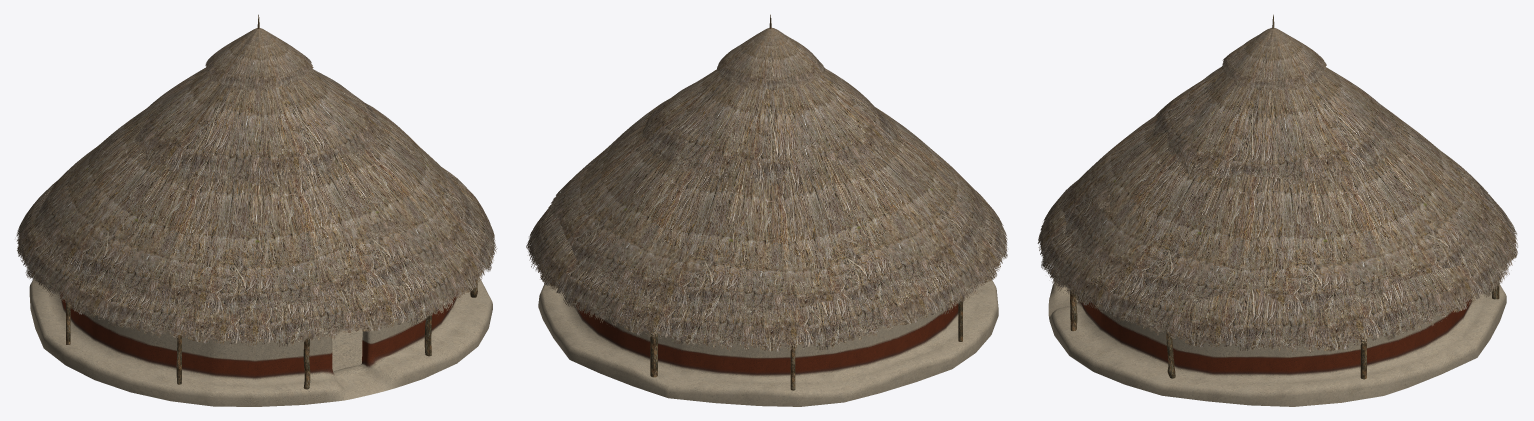
The model's file is african hut.glb.
3 views of the same model, side by side, from view 1: azimuth 30°, elevation 25°; view 2: azimuth 150°, elevation 25°; view 3: azimuth 270°, elevation 25° (orthographic).
Visible parts, largest first — view 1: Roof Lower_14, Structure_16, Roof Top_15, Roof Bottom_13, Roof Tip_18, Pillars_12, Roof Upper_17; view 2: Roof Lower_14, Structure_16, Roof Bottom_13, Roof Top_15, Roof Tip_18, Pillars_12; view 3: Roof Lower_14, Structure_16, Roof Bottom_13, Roof Top_15, Roof Tip_18, Pillars_12.
Boxes of the visible parts, <box> form: Roof Lower_14: <box>33,95,478,318</box>; Structure_16: <box>29,277,492,406</box>; Roof Top_15: <box>133,68,387,187</box>; Roof Bottom_13: <box>16,167,497,346</box>; Roof Tip_18: <box>205,28,313,92</box>; Pillars_12: <box>66,14,477,389</box>; Roof Upper_17: <box>363,219,409,239</box>; Roof Lower_14: <box>544,99,988,319</box>; Structure_16: <box>538,279,998,406</box>; Roof Bottom_13: <box>526,188,1007,352</box>; Roof Top_15: <box>642,68,897,185</box>; Roof Tip_18: <box>717,28,824,90</box>; Pillars_12: <box>550,14,986,390</box>; Roof Lower_14: <box>1058,103,1498,318</box>; Structure_16: <box>1048,278,1506,406</box>; Roof Bottom_13: <box>1037,182,1517,353</box>; Roof Top_15: <box>1152,66,1398,187</box>; Roof Tip_18: <box>1221,28,1326,91</box>; Pillars_12: <box>1070,14,1499,379</box>.
Bounding box in the file's own units: 12.2 × 8.27 × 12.23.
8 materials, 8 textured.
